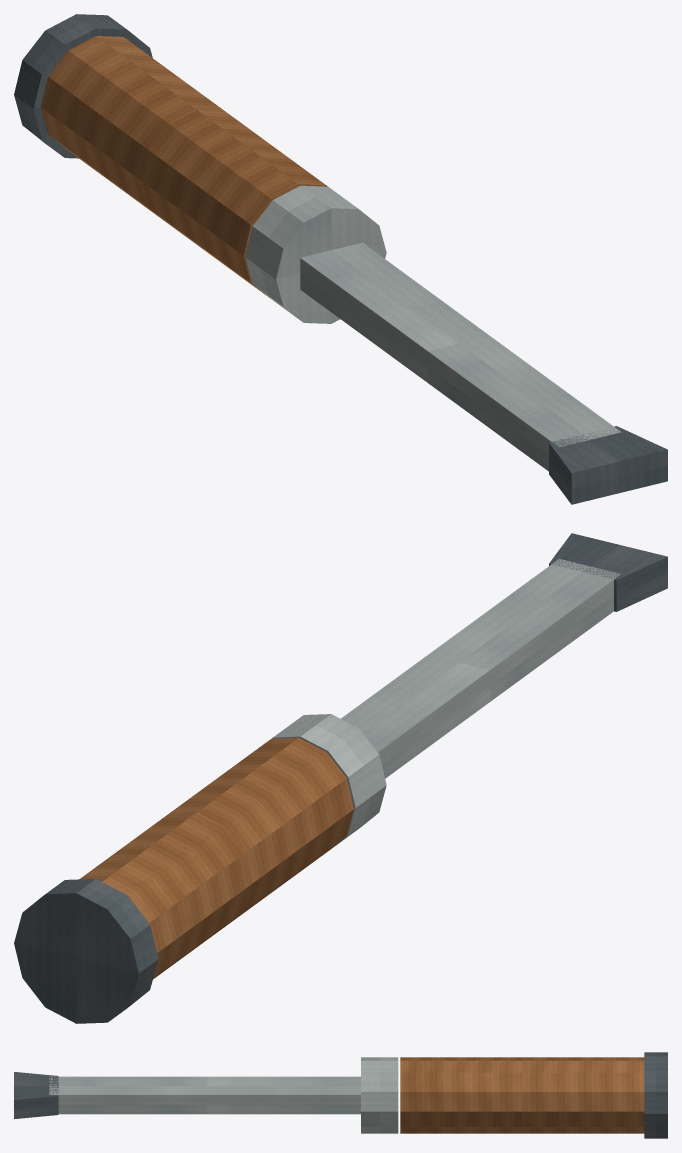
The model's file is PROJECT_Z_Pickup_Chisel.glb.
3 views of the same model, one above another, from view 1: azimuth 30°, elevation 25°; view 2: azimuth 150°, elevation 25°; view 3: azimuth 270°, elevation 25° (orthographic). The views are drawn at different scales.
Visible parts, largest first — view 1: CHISEL_OiledWoodHandle, CHISEL_Shaft, CHISEL_SteelFerrule, CHISEL_BevelEdge, CHISEL_StrikeButt; view 2: CHISEL_OiledWoodHandle, CHISEL_Shaft, CHISEL_StrikeButt, CHISEL_SteelFerrule, CHISEL_BevelEdge; view 3: CHISEL_OiledWoodHandle, CHISEL_Shaft, CHISEL_SteelFerrule, CHISEL_StrikeButt, CHISEL_BevelEdge.
Part boxes in pixels (x1,y1,x2,y2): CHISEL_OiledWoodHandle: [40, 36, 327, 298]; CHISEL_Shaft: [300, 242, 621, 471]; CHISEL_SteelFerrule: [245, 185, 386, 323]; CHISEL_BevelEdge: [549, 426, 667, 504]; CHISEL_StrikeButt: [14, 14, 152, 158]; CHISEL_OiledWoodHandle: [79, 737, 353, 979]; CHISEL_Shaft: [341, 558, 620, 778]; CHISEL_StrikeButt: [14, 879, 158, 1023]; CHISEL_SteelFerrule: [272, 714, 386, 849]; CHISEL_BevelEdge: [549, 533, 667, 611]; CHISEL_OiledWoodHandle: [400, 1057, 644, 1133]; CHISEL_Shaft: [49, 1076, 360, 1114]; CHISEL_SteelFerrule: [361, 1057, 398, 1133]; CHISEL_StrikeButt: [644, 1052, 667, 1138]; CHISEL_BevelEdge: [14, 1072, 58, 1118].
Bounding box in the file's own units: 0.07 × 0.07 × 0.5275.
3 materials, 3 textured.
